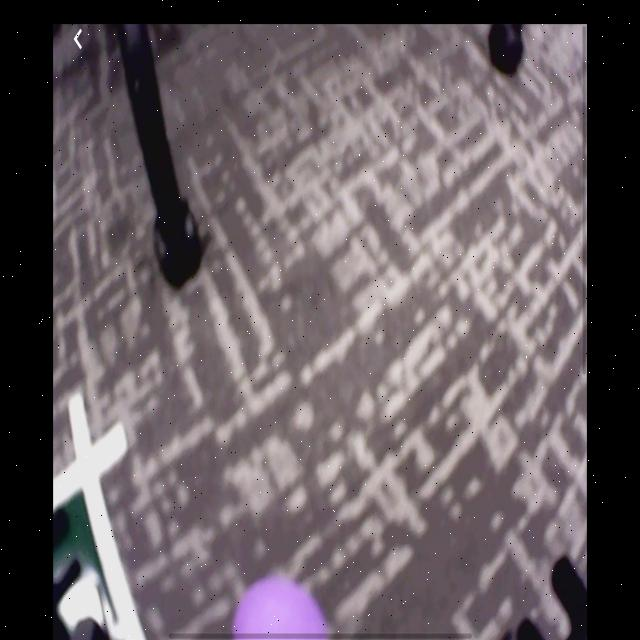ball: (223, 578, 332, 638)
